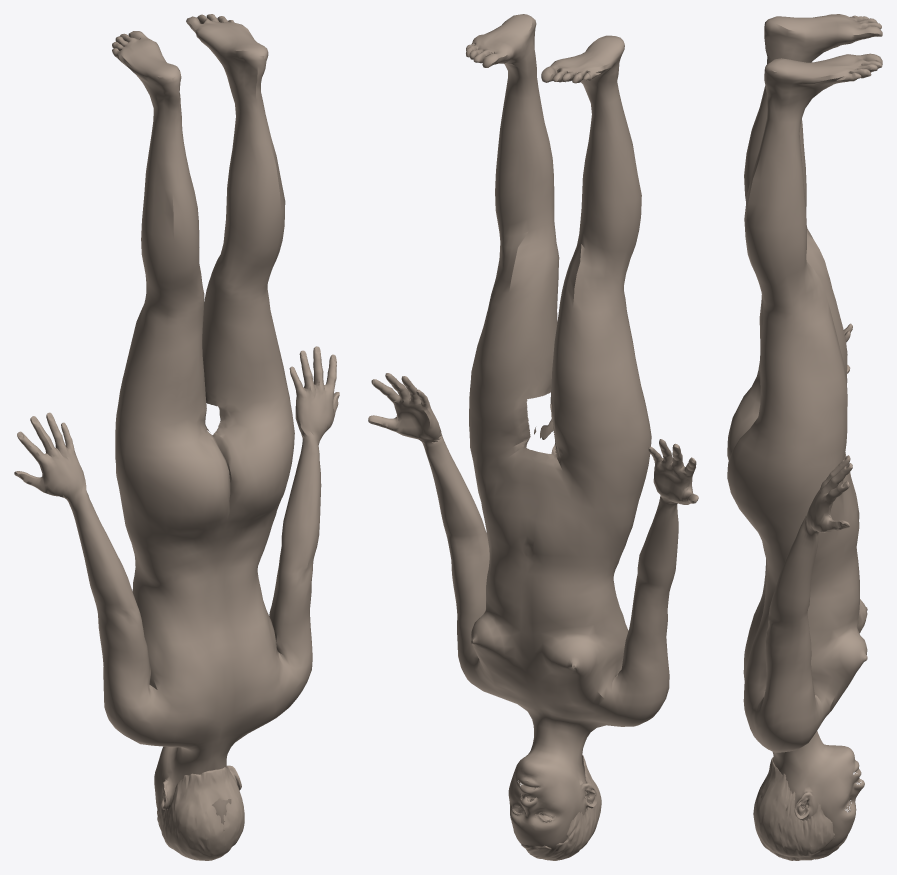
Rendered from skin.glb.
The picture shows the model from 3 angles, left to right: view 1: azimuth 30°, elevation 25°; view 2: azimuth 150°, elevation 25°; view 3: azimuth 270°, elevation 25°; orthographic projection.
Parts seen in each view (by area): view 1: HRA_skin, FJ2813; view 2: HRA_skin, FJ2813; view 3: HRA_skin, FJ2813.
Part boxes in pixels (<box>): HRA_skin: <box>14,14,339,830</box>; FJ2813: <box>157,766,244,860</box>; HRA_skin: <box>368,14,698,852</box>; FJ2813: <box>511,755,601,860</box>; HRA_skin: <box>727,14,882,851</box>; FJ2813: <box>753,757,847,860</box>.
Bounding box in the file's own units: 698 × 1658 × 286.
